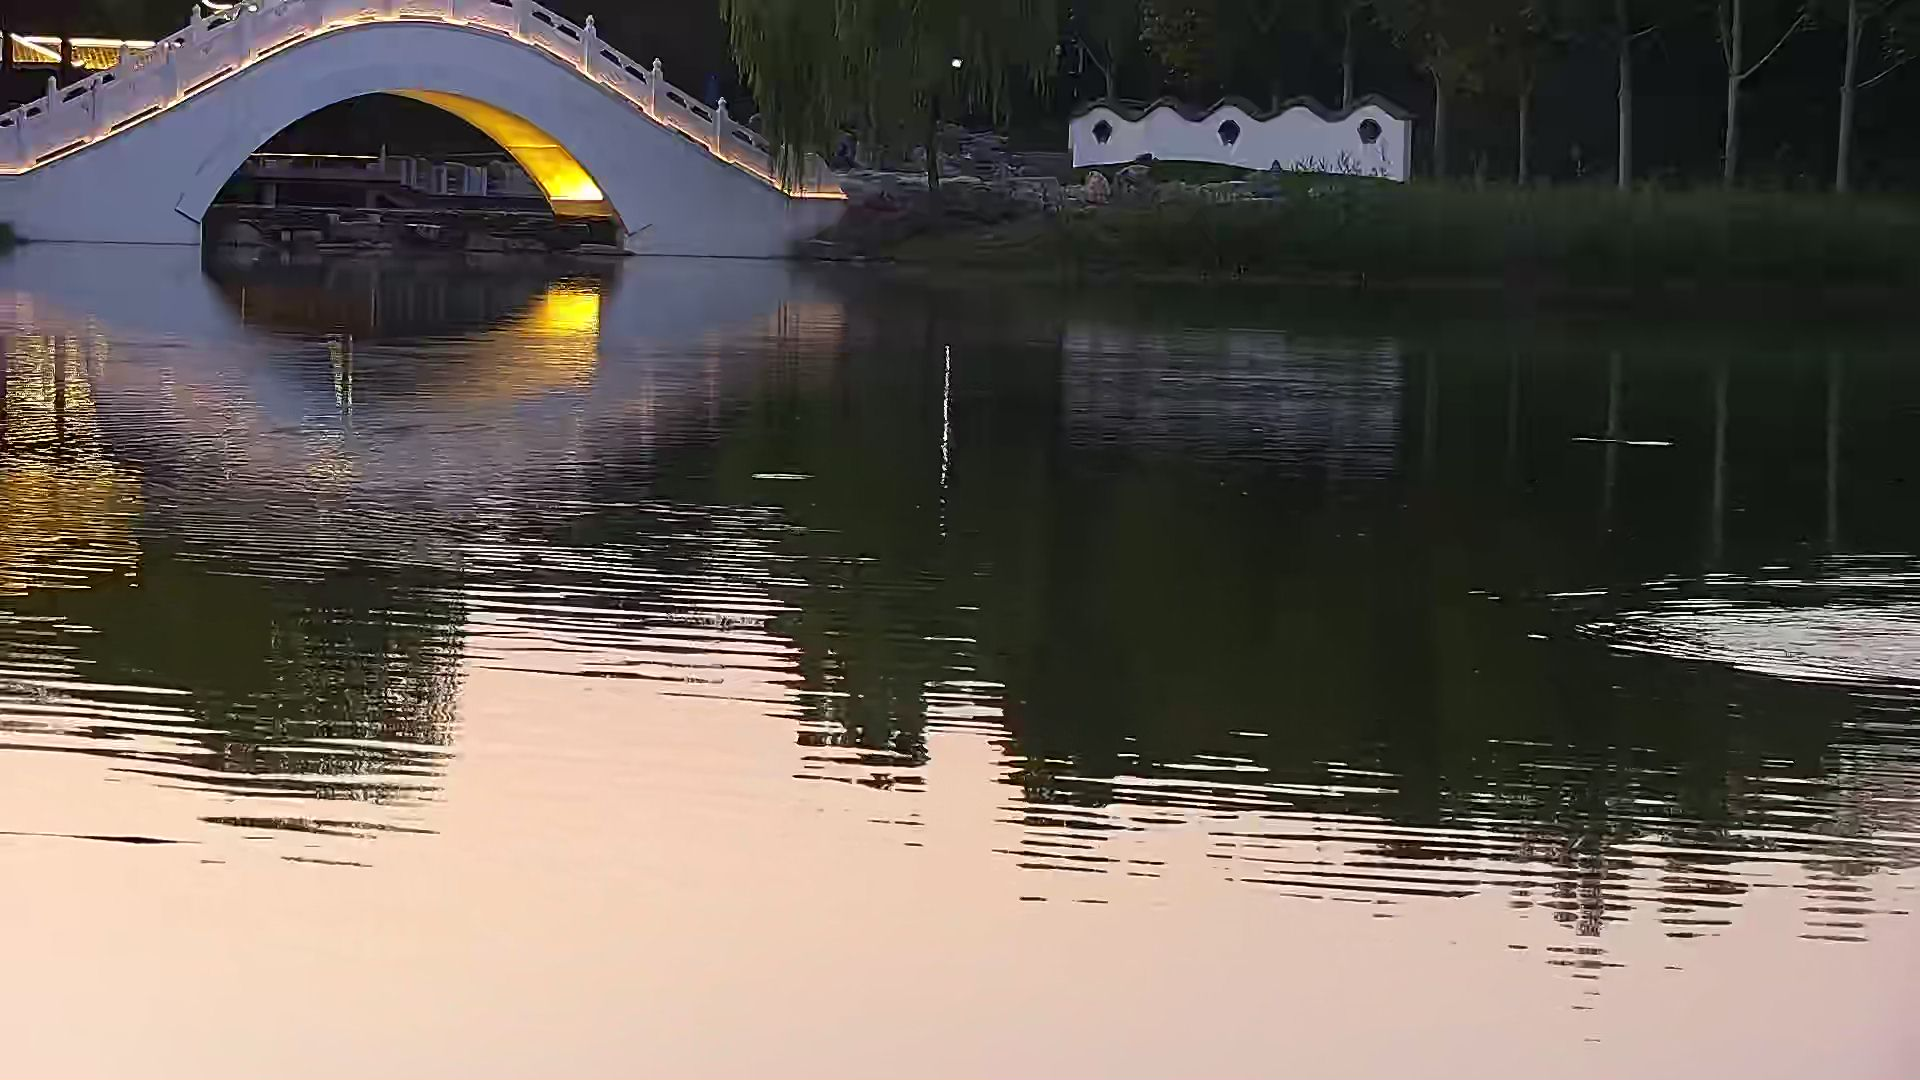bridge: (5, 4, 825, 258)
